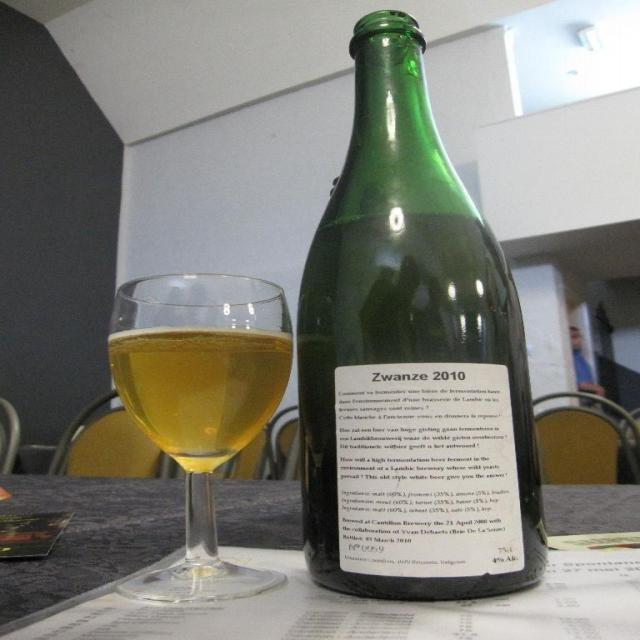bottle-glass: (293, 10, 547, 602)
glass-wine: (104, 268, 298, 600)
